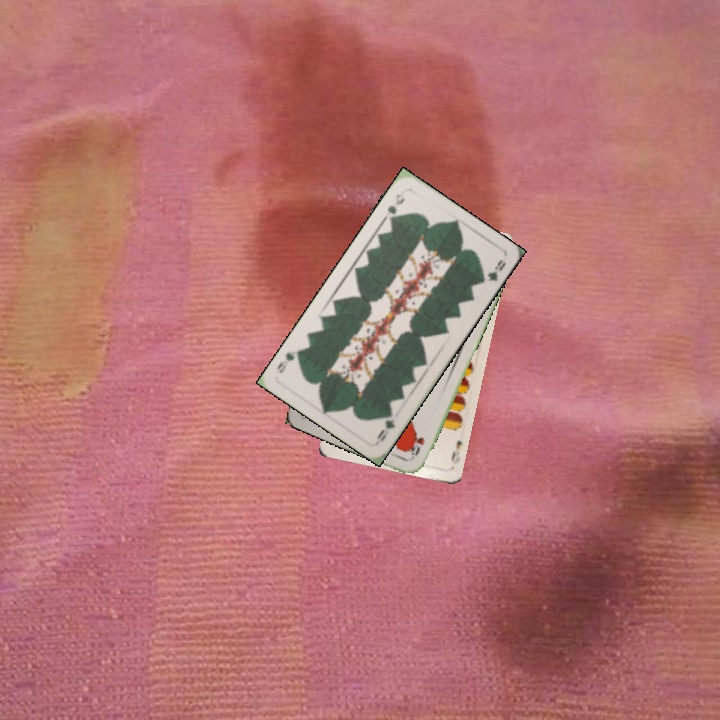E9: (447, 436, 465, 466)
G9: (379, 186, 408, 225), (372, 407, 398, 444)
HO: (405, 429, 427, 461)
